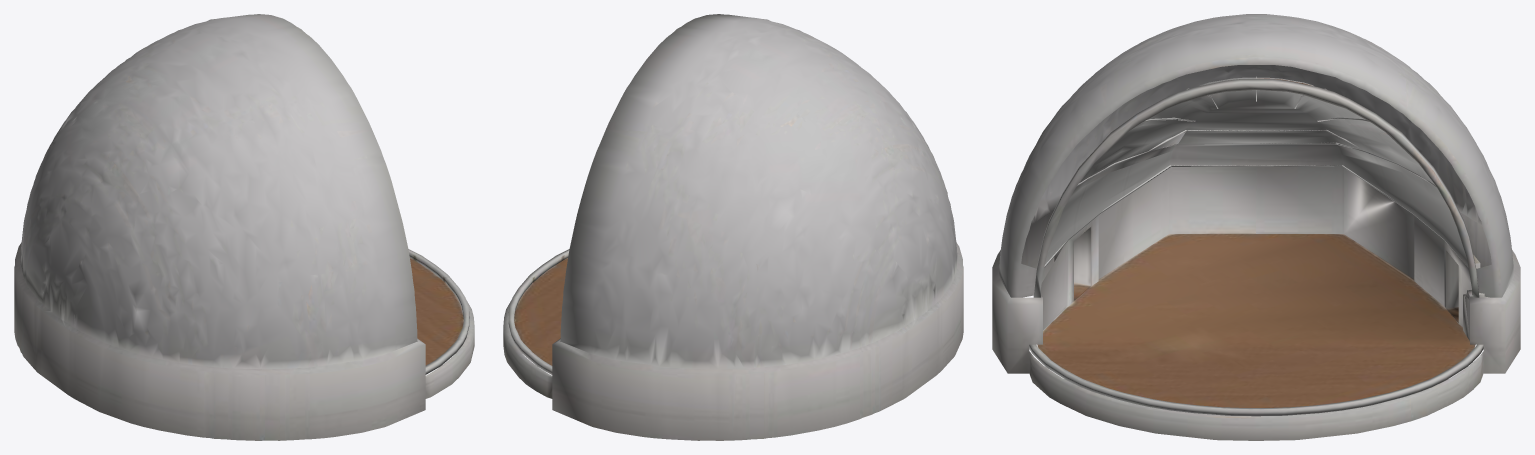
The model's file is bandshell.glb.
3 renders of one model, left to right at view 1: azimuth 30°, elevation 25°; view 2: azimuth 150°, elevation 25°; view 3: azimuth 270°, elevation 25°, orthographic. The views are drawn at different scales.
Parts seen in each view (by area): view 1: tripo_node_eff3f64f-8f80-490e-891b-257e483a36f1; view 2: tripo_node_eff3f64f-8f80-490e-891b-257e483a36f1; view 3: tripo_node_eff3f64f-8f80-490e-891b-257e483a36f1.
Boxes of the visible parts, left/top/right/bottom form: tripo_node_eff3f64f-8f80-490e-891b-257e483a36f1: left=14, top=14, right=474, bottom=440; tripo_node_eff3f64f-8f80-490e-891b-257e483a36f1: left=503, top=14, right=963, bottom=440; tripo_node_eff3f64f-8f80-490e-891b-257e483a36f1: left=992, top=14, right=1520, bottom=440.
Bounding box in the file's own units: 0.8847 × 0.6582 × 0.998.
1 material, 1 textured.
